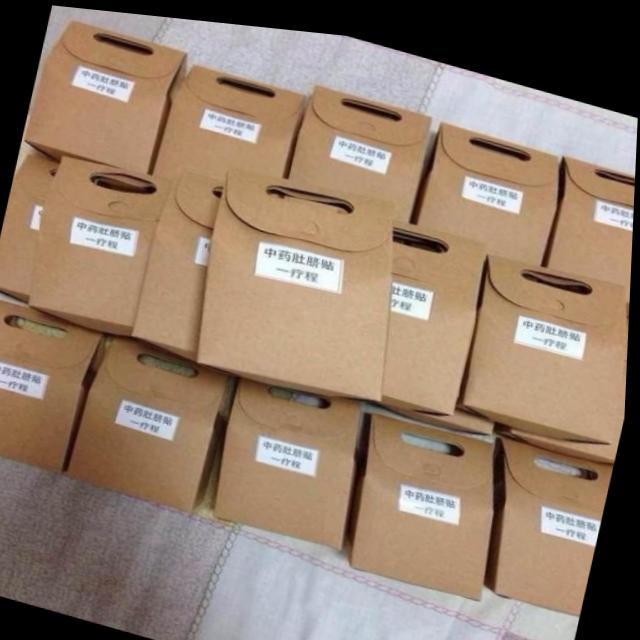box: (201, 160, 395, 393), (467, 243, 631, 430), (346, 401, 497, 590), (71, 333, 233, 508), (30, 156, 176, 332), (23, 17, 189, 170), (218, 372, 364, 545), (488, 426, 617, 604), (384, 210, 489, 404), (417, 113, 560, 253), (284, 78, 431, 212), (0, 298, 110, 472), (134, 164, 227, 358), (153, 60, 305, 178), (499, 337, 630, 451), (547, 144, 636, 303), (0, 152, 60, 304), (384, 397, 496, 424)
